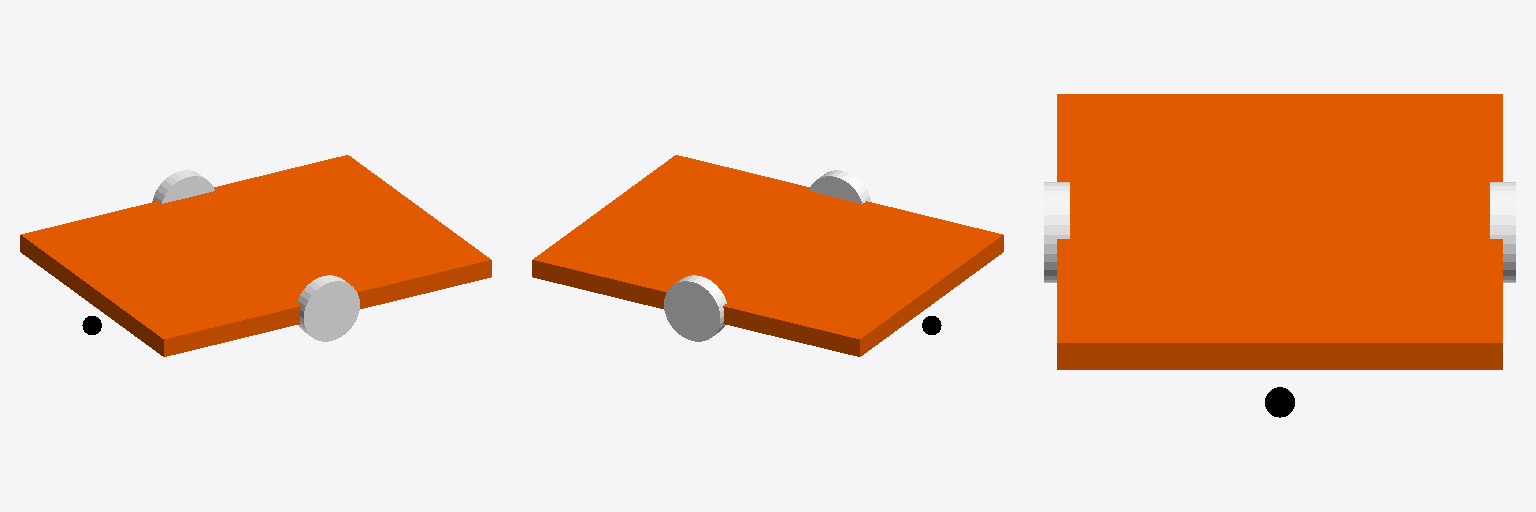
robot.urdf — leuze:
<?xml version="1.0" ?>
<robot name="leuze">
    <link name="base_footprint">
        <visual>
            <geometry>
               <sphere radius="0.001" />
         </geometry>
     </visual>
    </link>

    <joint name="base_link2base_footprint" type="fixed">
        <parent link="base_footprint" />
        <child link="base_link" />
        <origin xyz="0 0 0.05" />
    </joint>

    <link name="base_link">
        <visual>
            <origin xyz="0 0 0.05" rpy="0 0 0" />
            <geometry>
                <box size="0.58 0.44 0.03"/>
            </geometry>
            <material name="yellow">
                <color rgba="1 0.4 0 1"/>
            </material>
        </visual>
    </link>

    <joint name="left_wheel_joint" type="continuous">
        <origin xyz="0 0.22 0" rpy="0 0 0"/>
        <parent link="base_link"/>
        <child link="left_wheel_link"/>
        <axis xyz="0 1 0"/>
    </joint>

    <link name="left_wheel_link">
        <visual>
            <origin xyz="0 0 0.05" rpy="1.5707 0 0" />
            <geometry>
                <cylinder radius="0.05" length = "0.025"/>
            </geometry>
            <material name="white">
                <color rgba="1 1 1 0.9"/>
            </material>
        </visual>
    </link>

    <joint name="right_wheel_joint" type="continuous">
        <origin xyz="0 -0.22 0" rpy="0 0 0"/>
        <parent link="base_link"/>
        <child link="right_wheel_link"/>
        <axis xyz="0 1 0"/>
    </joint>

    <link name="right_wheel_link">
        <visual>
            <origin xyz="0 0 0.05" rpy="1.5707 0 0" />
            <geometry>
                <cylinder radius="0.05" length = "0.025"/>
            </geometry>
            <material name="white">
                <color rgba="1 1 1 0.9"/>
            </material>
        </visual>
    </link>

    <joint name="front_caster_joint" type="continuous">
        <origin xyz="0.29 0 0" rpy="0 0 0"/>
        <parent link="base_link"/>
        <child link="front_caster_link"/>
        <axis xyz="0 1 0"/>
    </joint>

    <link name="front_caster_link">
        <visual>
            <origin xyz="0 0 0" rpy="0 0 0"/>
            <geometry>
                <sphere radius="0.015" />
            </geometry>
            <material name="black">
                <color rgba="0 0 0 0.95"/>
            </material>
        </visual>
    </link>

    <joint name="back_caster_joint" type="continuous">
        <origin xyz="-0.29 0 0" rpy="0 0 0"/>
        <parent link="base_link"/>
        <child link="back_caster_link"/>
        <axis xyz="0 1 0"/>
    </joint>

    <link name="back_caster_link">
        <visual>
            <origin xyz="0 0 0" rpy="0 0 0"/>
            <geometry>
                <sphere radius="0.015" />
            </geometry>
            <material name="black">
                <color rgba="0 0 0 0.95"/>
            </material>
        </visual>
    </link>

</robot>

--- What the picture shows (computed from the rendered views, not written in the file) ---
Views: 3 orthographic renders of the robot side by side, from view 1: azimuth 30°, elevation 25°; view 2: azimuth 150°, elevation 25°; view 3: azimuth 270°, elevation 25°.
Model leuze with 6 links and 5 joints (4 continuous, 1 fixed), rooted at base_footprint, posed all joints at 0.
Visible links, largest first — view 1: base_link, right_wheel_link, left_wheel_link; view 2: base_link, left_wheel_link, right_wheel_link; view 3: base_link, left_wheel_link, right_wheel_link, front_caster_link.
Link boxes in pixels (<box>): base_link: <box>20,155,491,356</box>; right_wheel_link: <box>297,275,359,341</box>; left_wheel_link: <box>152,170,214,203</box>; base_link: <box>532,155,1003,356</box>; left_wheel_link: <box>664,275,726,341</box>; right_wheel_link: <box>809,170,871,203</box>; base_link: <box>1057,94,1502,369</box>; left_wheel_link: <box>1490,182,1515,282</box>; right_wheel_link: <box>1044,182,1069,282</box>; front_caster_link: <box>1265,387,1294,417</box>.
Size in the robot's own frame: 0.61 by 0.465 by 0.151 metres.
Geometry: primitives only (box / cylinder / sphere), no mesh files.
